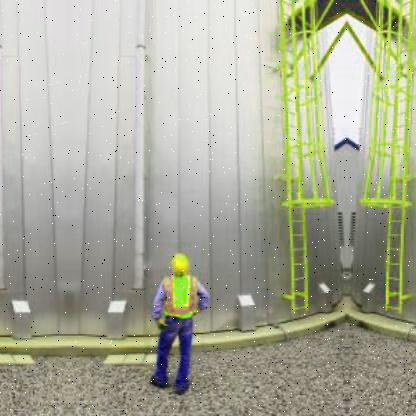Helmet: (166, 253, 194, 282)
